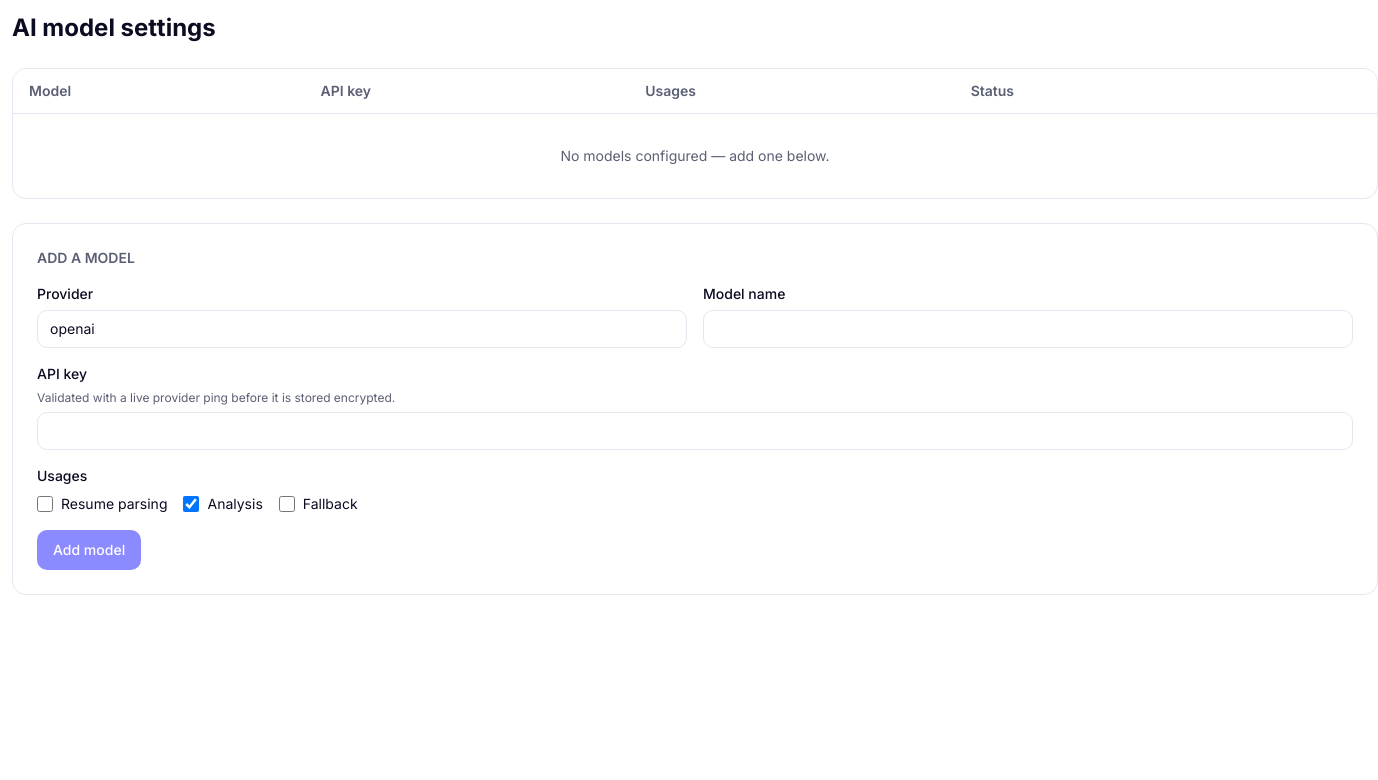
Test case: AdminSettingsPage › adds a model and shows it in the table
Type "gpt-4o" into the field labelled "Model name" at (1028, 329), box [703, 310, 1353, 348]
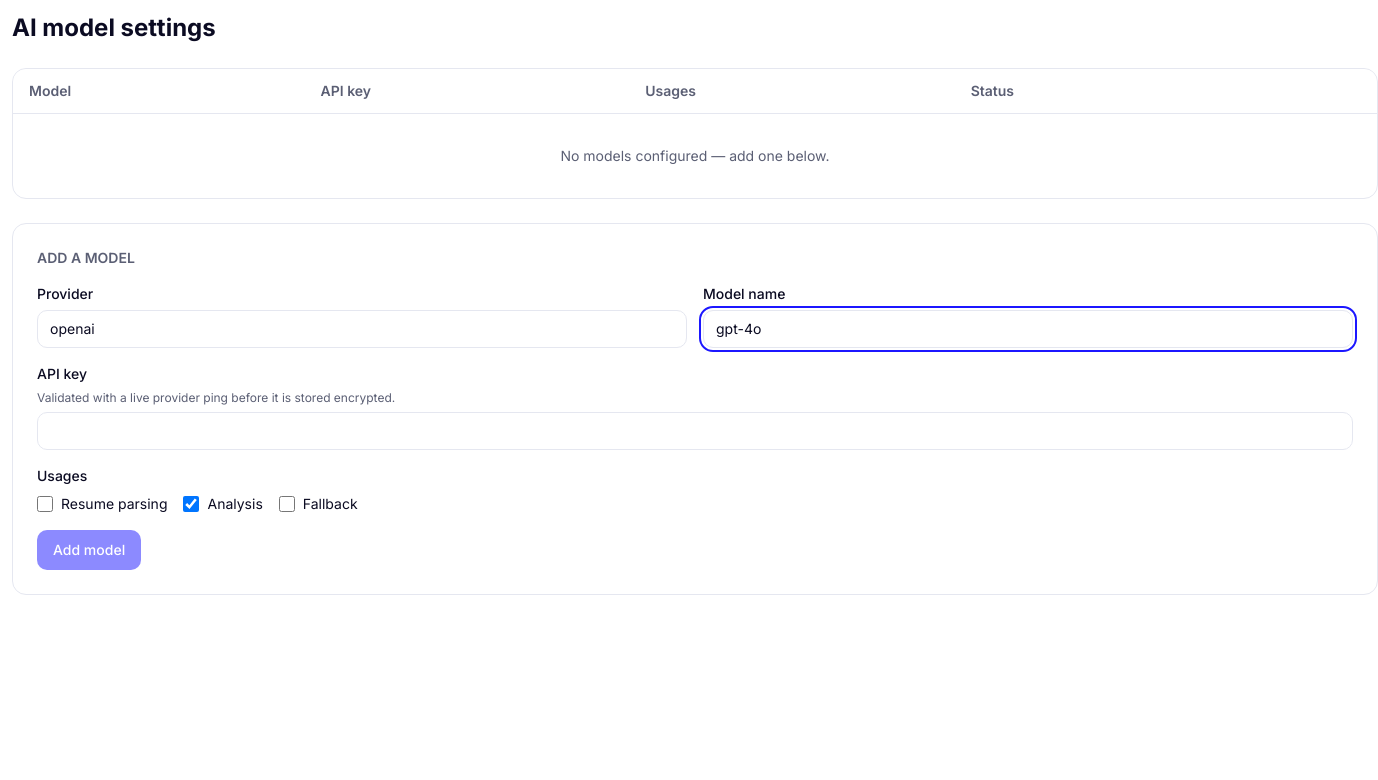
Type "sk-good-key-9999" into the password field labelled "API key" at (695, 431), box [37, 412, 1353, 450]
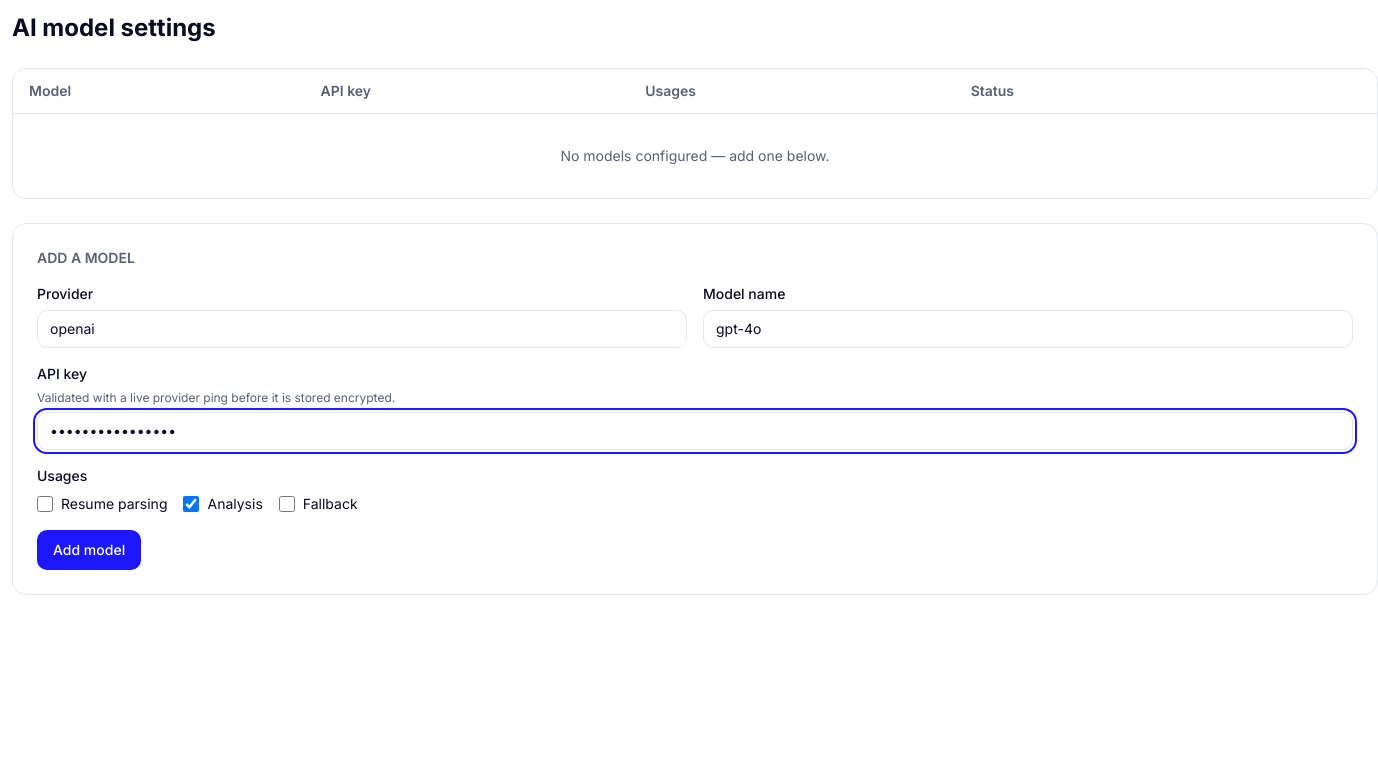
Click the button "Add model" at (89, 550), box [37, 530, 141, 570]
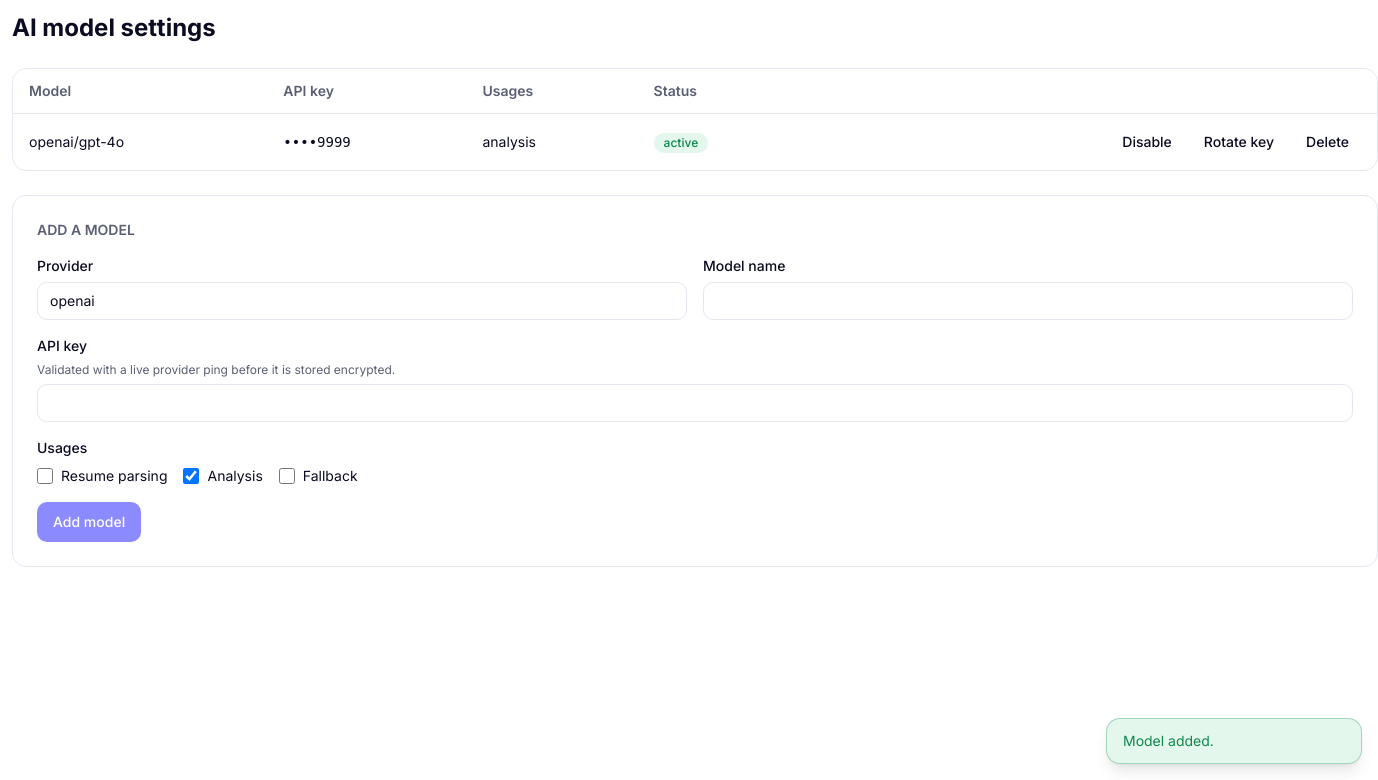
Expected: the text "••••9999" is shown, [283, 134, 351, 150]
